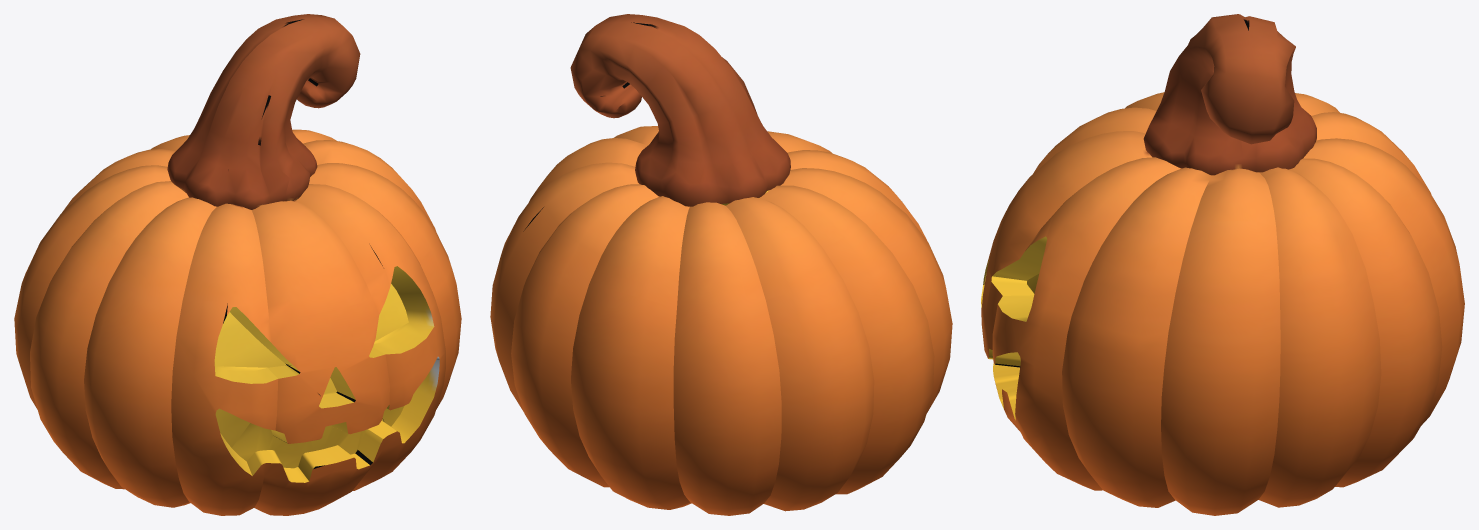
Rendered from kit-jack-o-lantern.glb.
3 renders of one model, left to right at view 1: azimuth 30°, elevation 25°; view 2: azimuth 150°, elevation 25°; view 3: azimuth 270°, elevation 25°, orthographic. The views are drawn at different scales.
Visible parts, largest first — view 1: WBA_Pumpkin_JackOLantern_01_WBA_MAT_Halloween_Atlas_0.001; view 2: WBA_Pumpkin_JackOLantern_01_WBA_MAT_Halloween_Atlas_0.001; view 3: WBA_Pumpkin_JackOLantern_01_WBA_MAT_Halloween_Atlas_0.001.
Part boxes in pixels (x1,y1,x2,y2): WBA_Pumpkin_JackOLantern_01_WBA_MAT_Halloween_Atlas_0.001: (14, 14, 461, 515); WBA_Pumpkin_JackOLantern_01_WBA_MAT_Halloween_Atlas_0.001: (490, 14, 952, 515); WBA_Pumpkin_JackOLantern_01_WBA_MAT_Halloween_Atlas_0.001: (981, 14, 1464, 515).
Size of the model in its own units: 0.3888 by 0.398 by 0.3677.
Materials: 1 (1 with a texture image).
